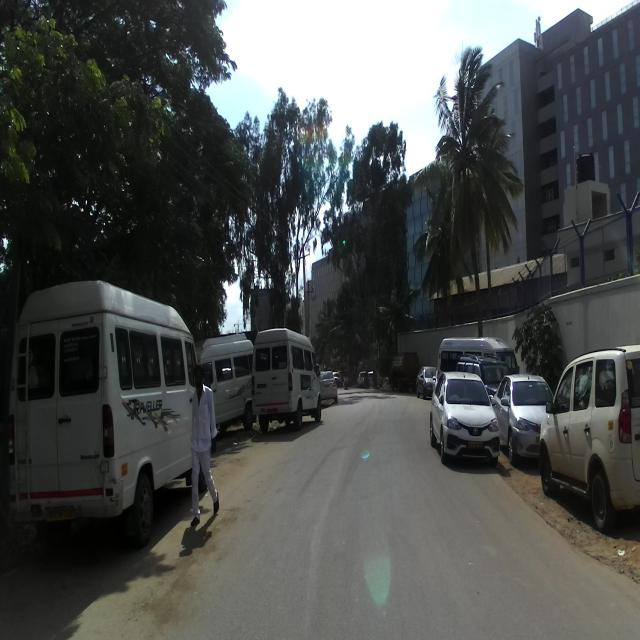Car_Mahindra: (538, 344, 640, 534)
Car_Toyota: (428, 370, 501, 471), (491, 371, 557, 467)
mini-bus: (5, 279, 200, 547)
